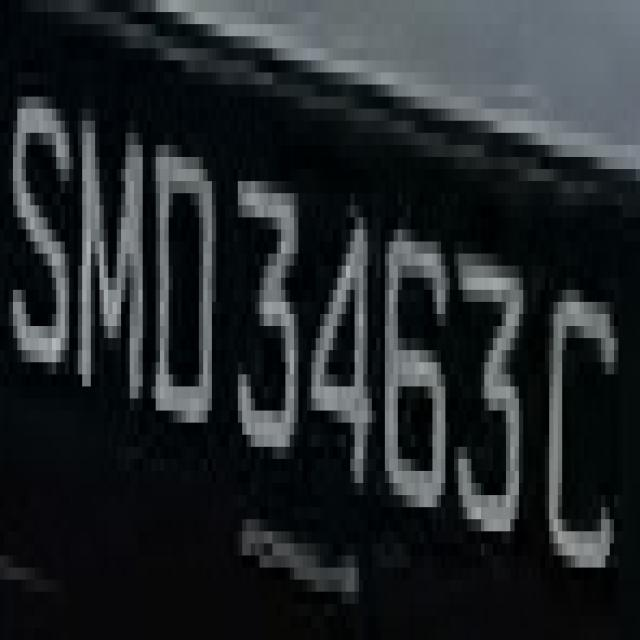3: (225, 121, 298, 471), (441, 206, 519, 532)
4: (294, 169, 389, 519)
6: (376, 206, 450, 544)
C: (540, 229, 622, 604)
D: (152, 109, 220, 446)
M: (74, 72, 147, 410)
S: (13, 36, 78, 411)
